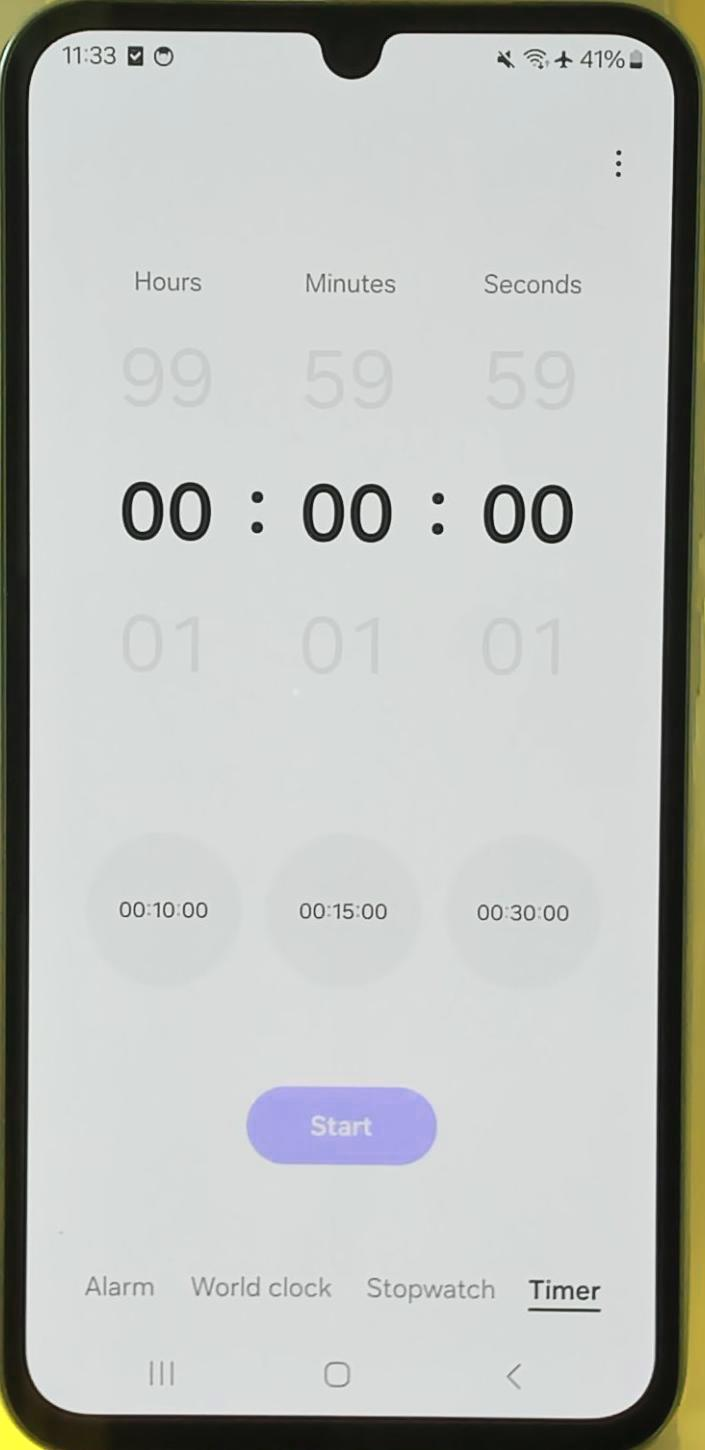CommunBotton: (442, 820, 616, 1010), (262, 818, 428, 998), (84, 822, 242, 990), (242, 1068, 448, 1180), (184, 1258, 340, 1308), (358, 1266, 504, 1314), (522, 1256, 612, 1328), (296, 258, 410, 304), (72, 1266, 164, 1314), (476, 266, 592, 302), (124, 260, 208, 306), (138, 1340, 182, 1400), (312, 1344, 354, 1398), (504, 1348, 528, 1398)
menu: (604, 120, 632, 200)
